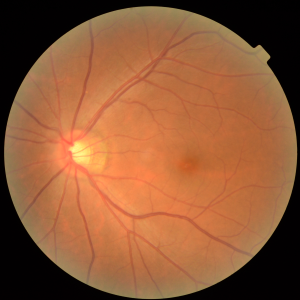healthy_eye: (35, 99, 259, 222)
